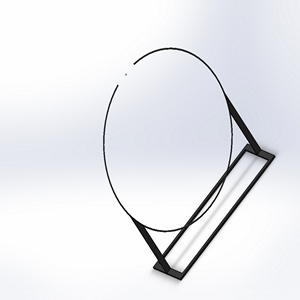circle: (100, 44, 276, 281)
